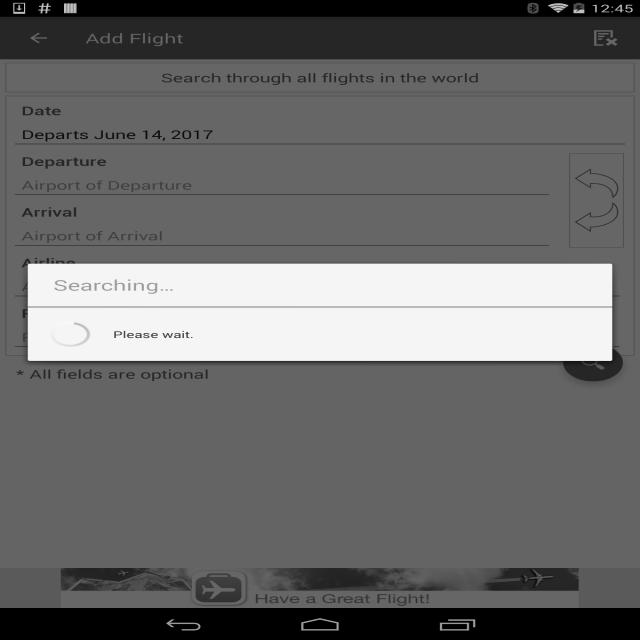EditText: (11, 122, 629, 150), (11, 274, 624, 302), (11, 325, 624, 352), (11, 223, 553, 251), (11, 173, 553, 200)
ImageButton: (550, 336, 636, 389), (9, 17, 68, 59)
ImageView: (61, 568, 578, 608), (569, 153, 624, 248), (16, 63, 37, 63), (16, 156, 37, 156), (16, 226, 37, 226), (16, 296, 37, 296), (16, 366, 37, 366), (16, 436, 37, 436), (16, 506, 37, 506)
SeekBar: (16, 139, 603, 155), (16, 209, 603, 225), (16, 279, 603, 295), (16, 349, 603, 365), (16, 419, 603, 435), (16, 489, 603, 505), (16, 559, 603, 575)
TextView: (5, 63, 635, 92), (5, 62, 635, 86), (5, 362, 635, 386), (11, 99, 629, 122), (11, 251, 624, 274), (11, 302, 624, 324), (5, 62, 549, 86), (11, 200, 564, 223), (11, 150, 564, 172), (16, 123, 624, 139), (16, 193, 624, 209), (16, 263, 624, 279), (16, 333, 624, 349), (16, 403, 624, 419), (16, 473, 624, 489), (16, 543, 624, 559), (108, 89, 490, 109), (108, 159, 490, 179), (108, 229, 490, 249), (108, 299, 490, 319), (108, 369, 490, 389), (108, 439, 490, 459), (108, 509, 490, 529), (108, 105, 512, 122), (108, 176, 512, 192), (108, 246, 512, 262), (108, 316, 512, 332), (108, 386, 512, 402), (108, 456, 512, 472), (108, 526, 512, 542), (548, 62, 634, 86), (501, 89, 603, 109), (501, 159, 603, 179), (501, 229, 603, 249), (501, 299, 603, 319), (501, 369, 603, 389), (501, 439, 603, 459), (501, 509, 603, 529), (5, 86, 108, 105), (5, 156, 108, 175), (5, 226, 108, 245), (5, 296, 108, 315), (5, 366, 108, 385), (5, 436, 108, 455), (5, 506, 108, 525), (85, 29, 184, 47), (580, 22, 632, 54), (5, 105, 97, 122), (5, 175, 97, 192), (5, 245, 97, 262), (5, 315, 97, 332), (5, 385, 97, 402), (5, 455, 97, 472), (5, 525, 97, 542), (512, 105, 603, 122), (512, 176, 603, 192), (512, 246, 603, 262), (512, 316, 603, 332), (512, 386, 603, 402), (512, 456, 603, 472), (512, 526, 603, 542)
